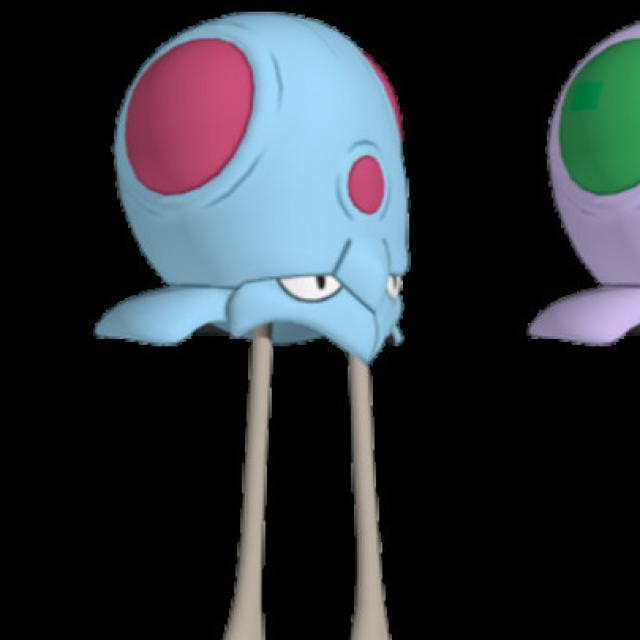Tentacool: (102, 16, 424, 420)
